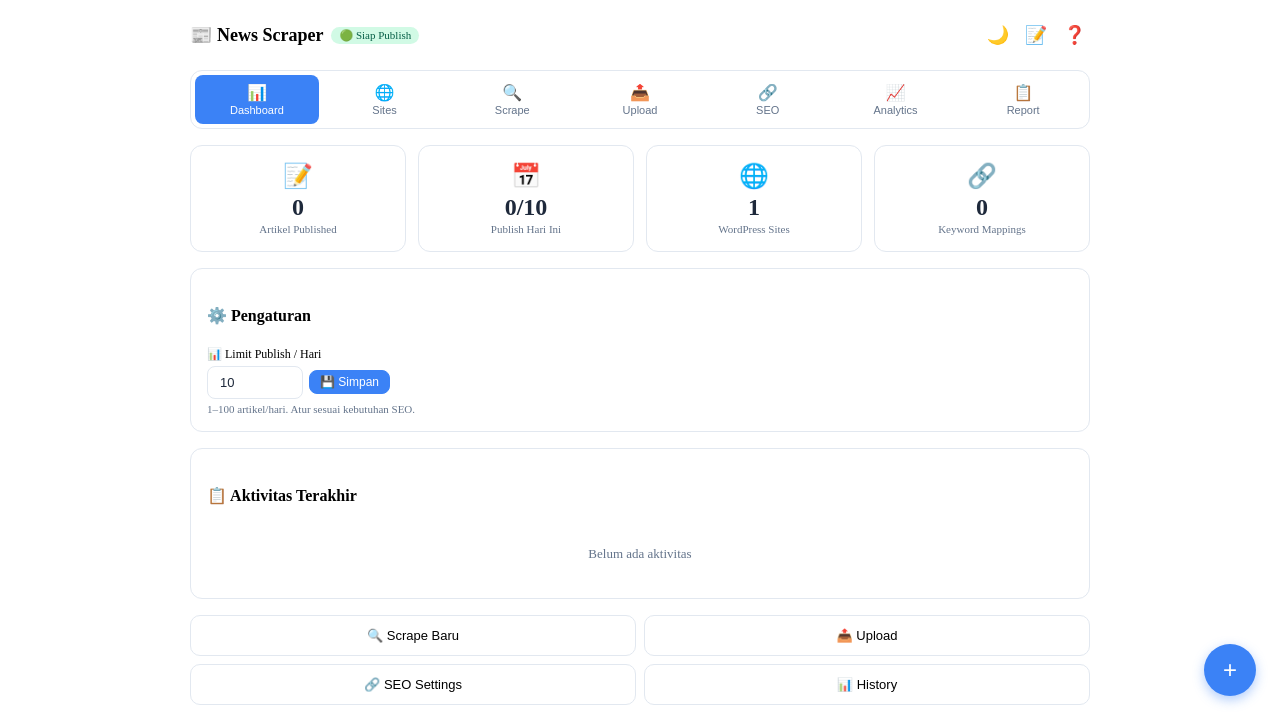
Test: ItEfView — Hapus Semua (delete-all) double-confirm flow › server menolak (cap) → pesan error dari server
Click the button "🔗 SEO": click(768, 100) [706,75,830,124]
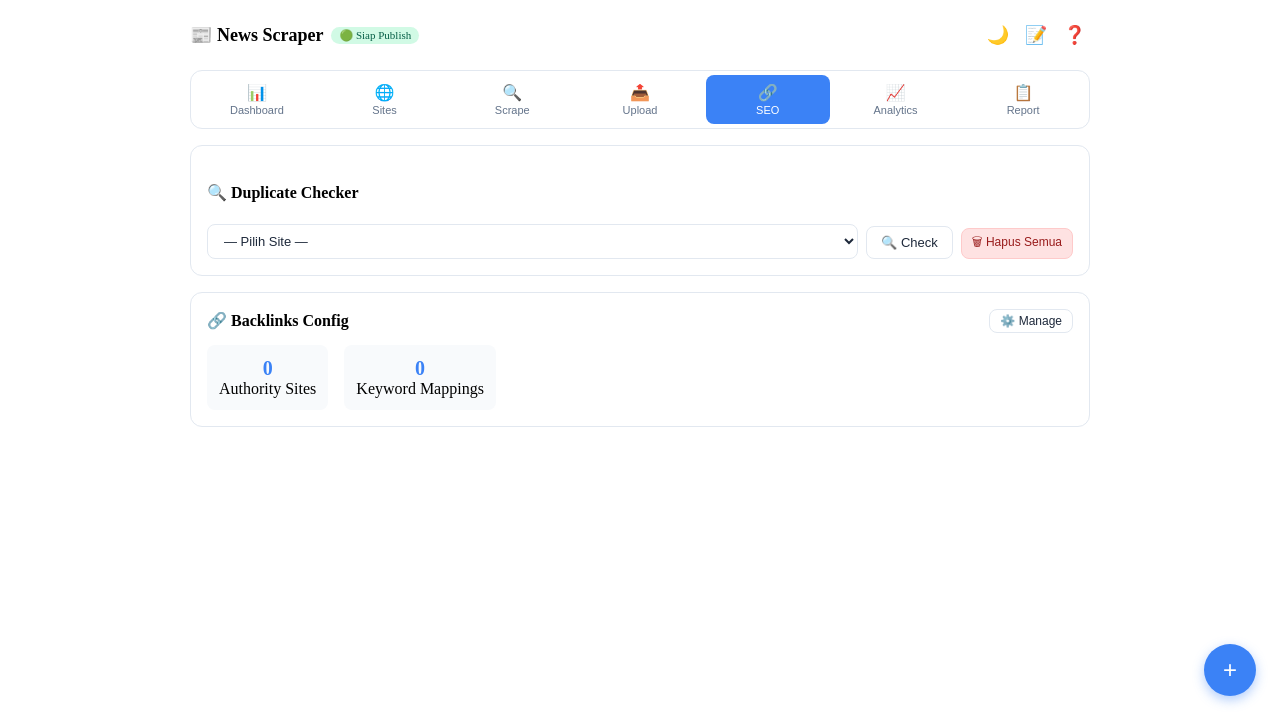
Select "TestSite" in the dropdown: (533, 241) [207,224,858,258]
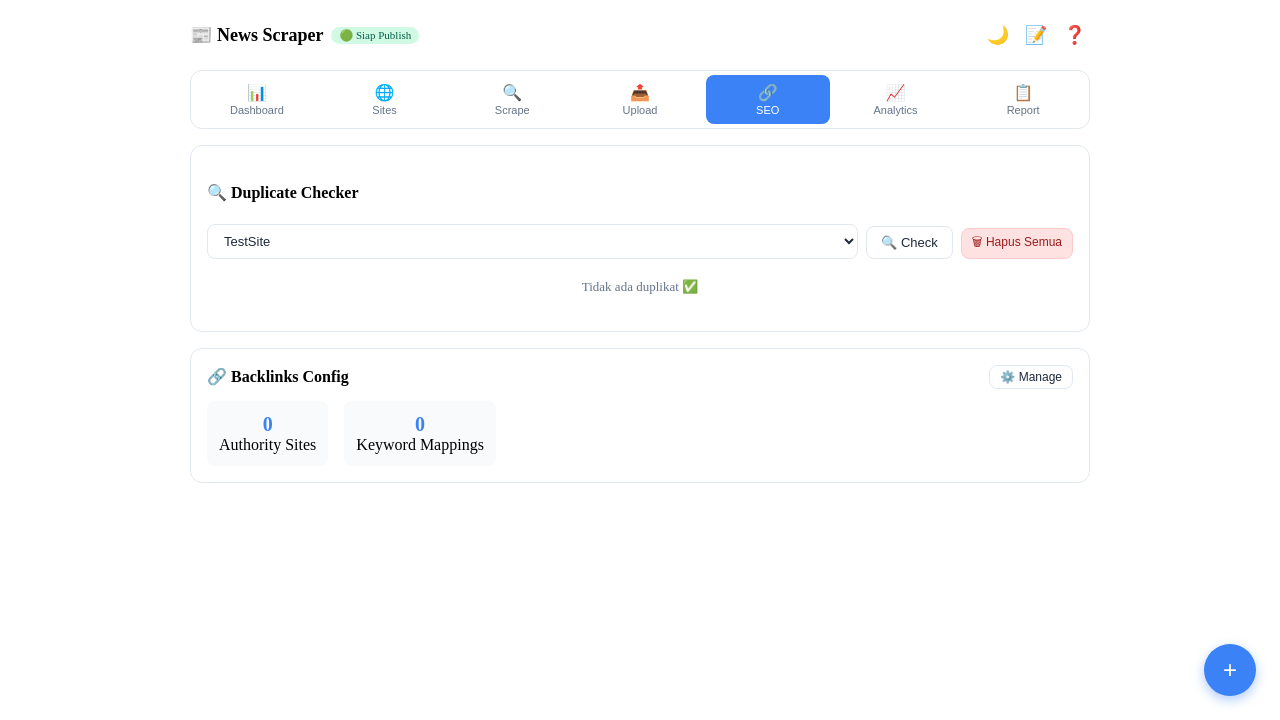
Click the button "🔍 Check": click(909, 242) [866,226,953,258]
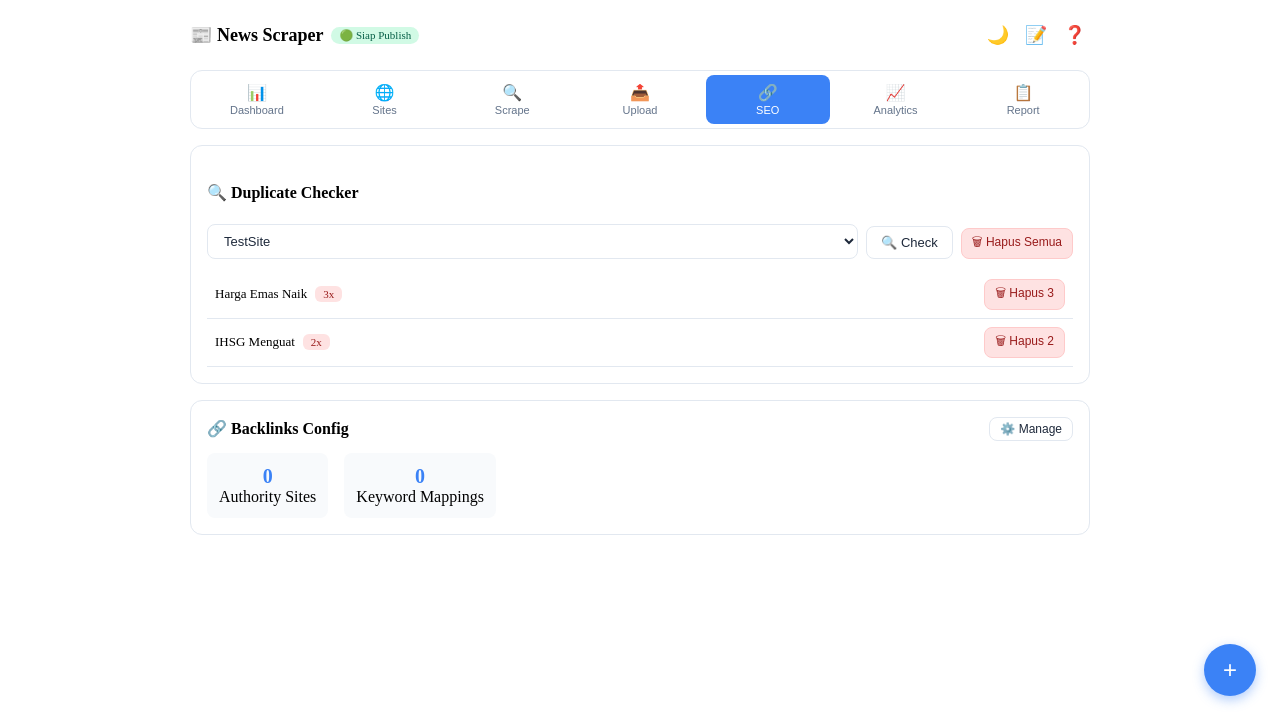
Click the button "🗑 Hapus Semua": click(1017, 243) [961,228,1073,258]
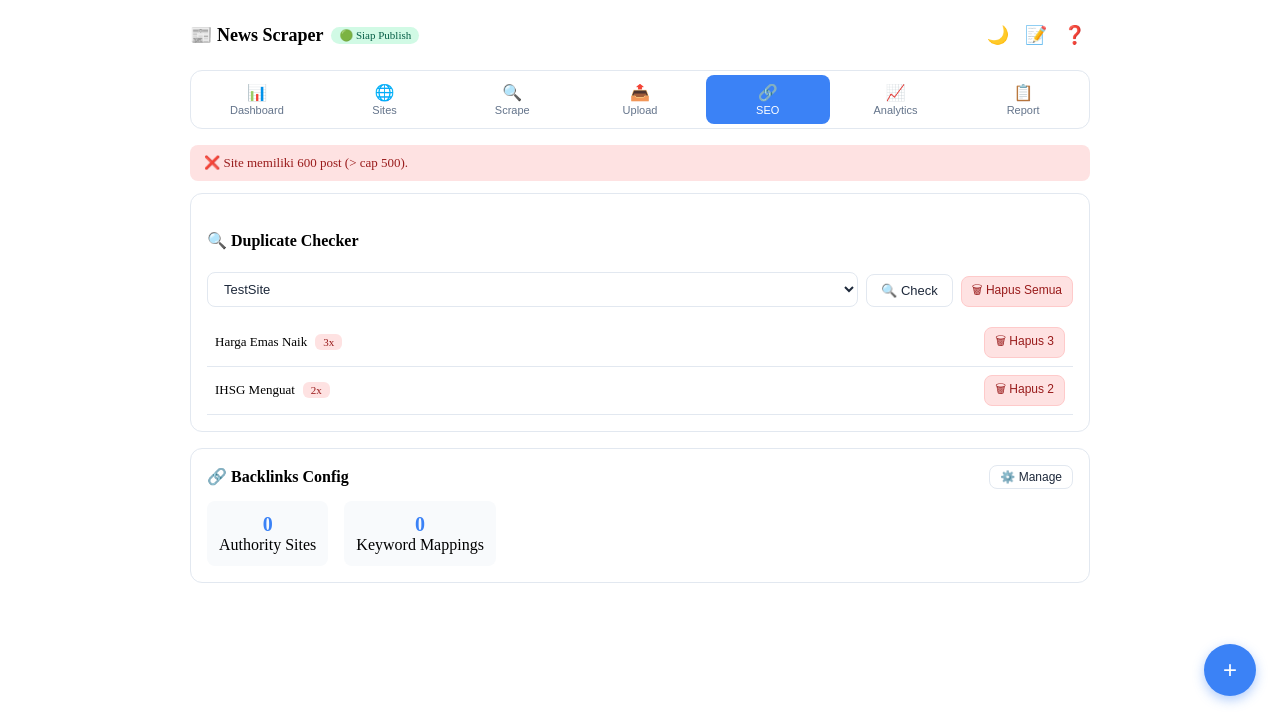
Expected: the text "Site memiliki 600 post (> cap 500)." is shown, [204,155,408,170]
